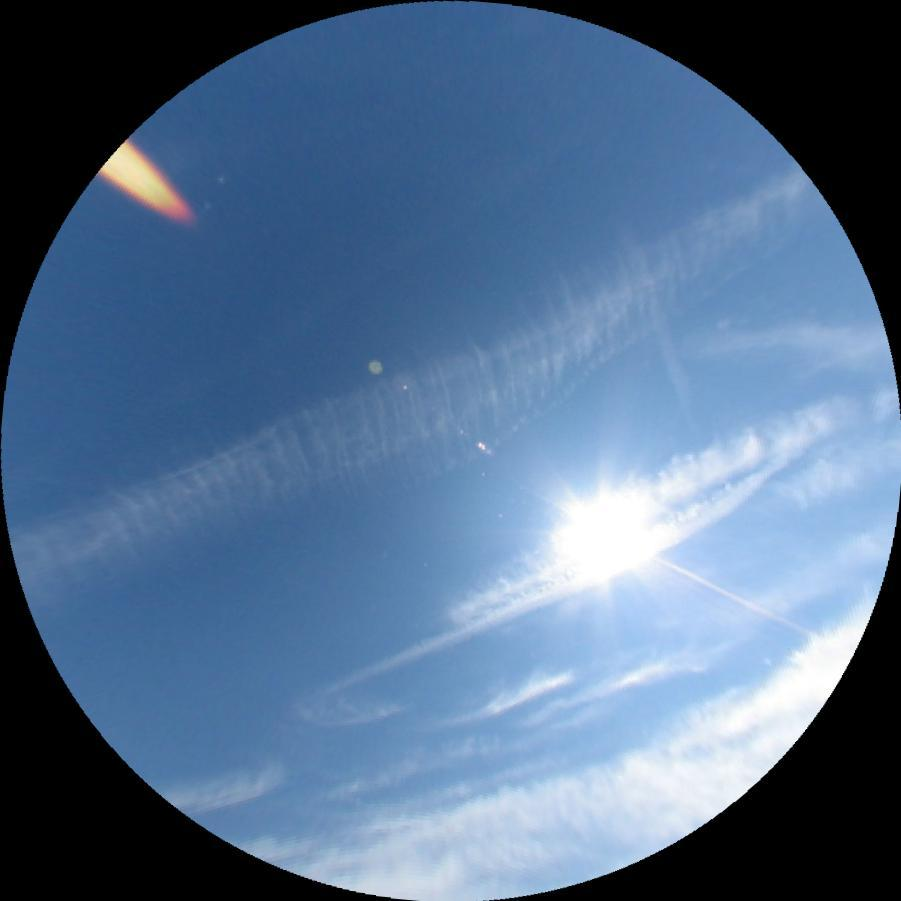contrail veryold: (0, 162, 864, 652), (321, 445, 816, 718), (427, 351, 901, 631), (679, 319, 895, 372), (644, 295, 692, 401)
parasite: (646, 551, 819, 640)
sun: (558, 502, 651, 568)
